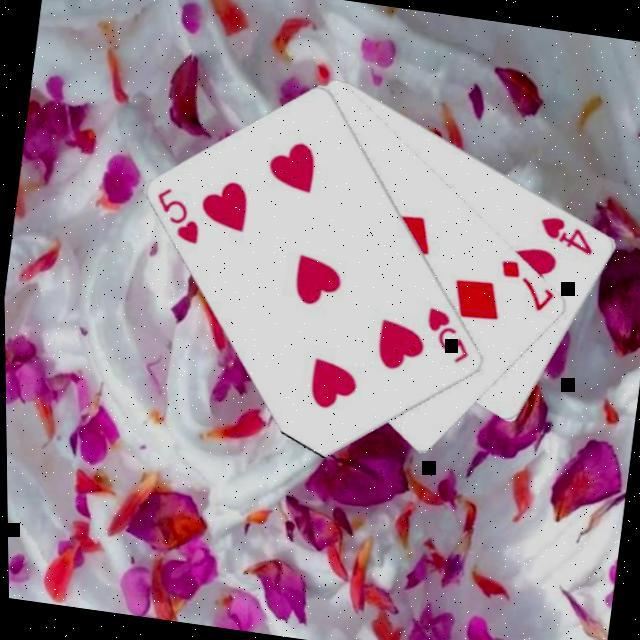4H: (535, 213, 602, 261)
5H: (418, 305, 479, 371), (149, 185, 210, 251)
7D: (493, 257, 562, 319)
